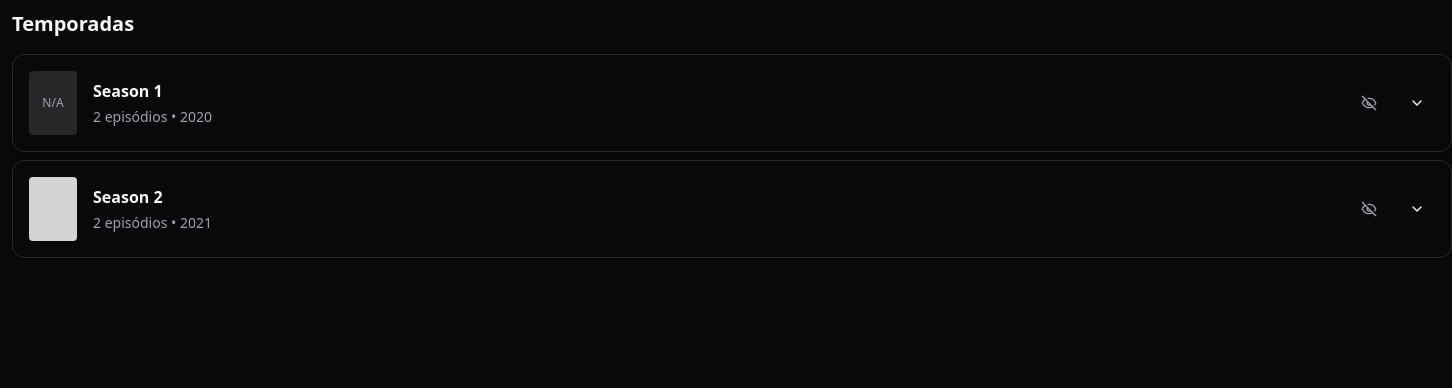
Test: SeasonList › handles expand season fetch errors and shows error UI
What coordinates should you click on to do the following:
click the heading "Season 1"
I would click on:
 (128, 91)
Its box is [93,80,163,102].
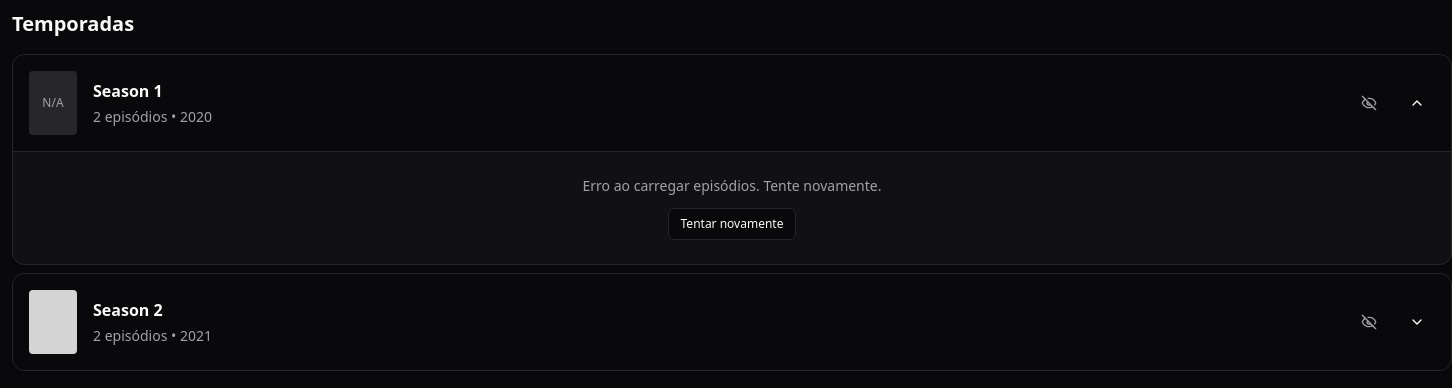
Check: the text "Erro ao carregar episódios. Tente novamente." is shown, box [582,176,882,196]
Check: the button "Tentar novamente" is shown, box [668,208,796,240]
